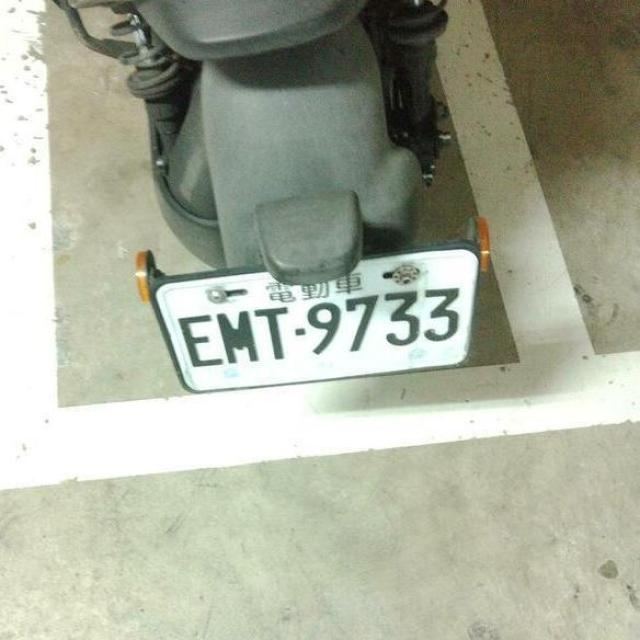W: (150, 232, 494, 402)
